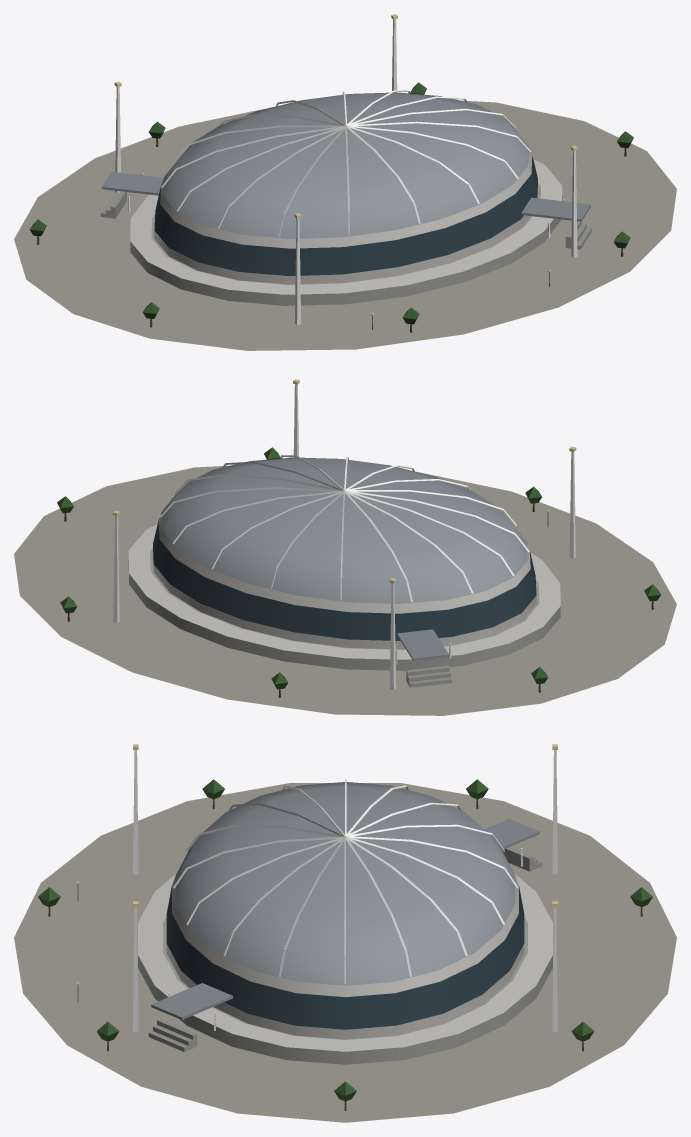
Rendered from mobile.glb.
The picture shows the model from 3 angles, top to bottom: view 1: azimuth 30°, elevation 25°; view 2: azimuth 150°, elevation 25°; view 3: azimuth 270°, elevation 25°; orthographic projection. The views are drawn at different scales.
Visible parts, largest first — view 1: lm.mission-bay-arena; view 2: lm.mission-bay-arena; view 3: lm.mission-bay-arena.
Part boxes in pixels (x1,y1,x2,y2): lm.mission-bay-arena: (14, 14, 676, 350); lm.mission-bay-arena: (14, 379, 676, 715); lm.mission-bay-arena: (14, 744, 676, 1122).
Bounding box in the file's own units: 222 × 41 × 183.
